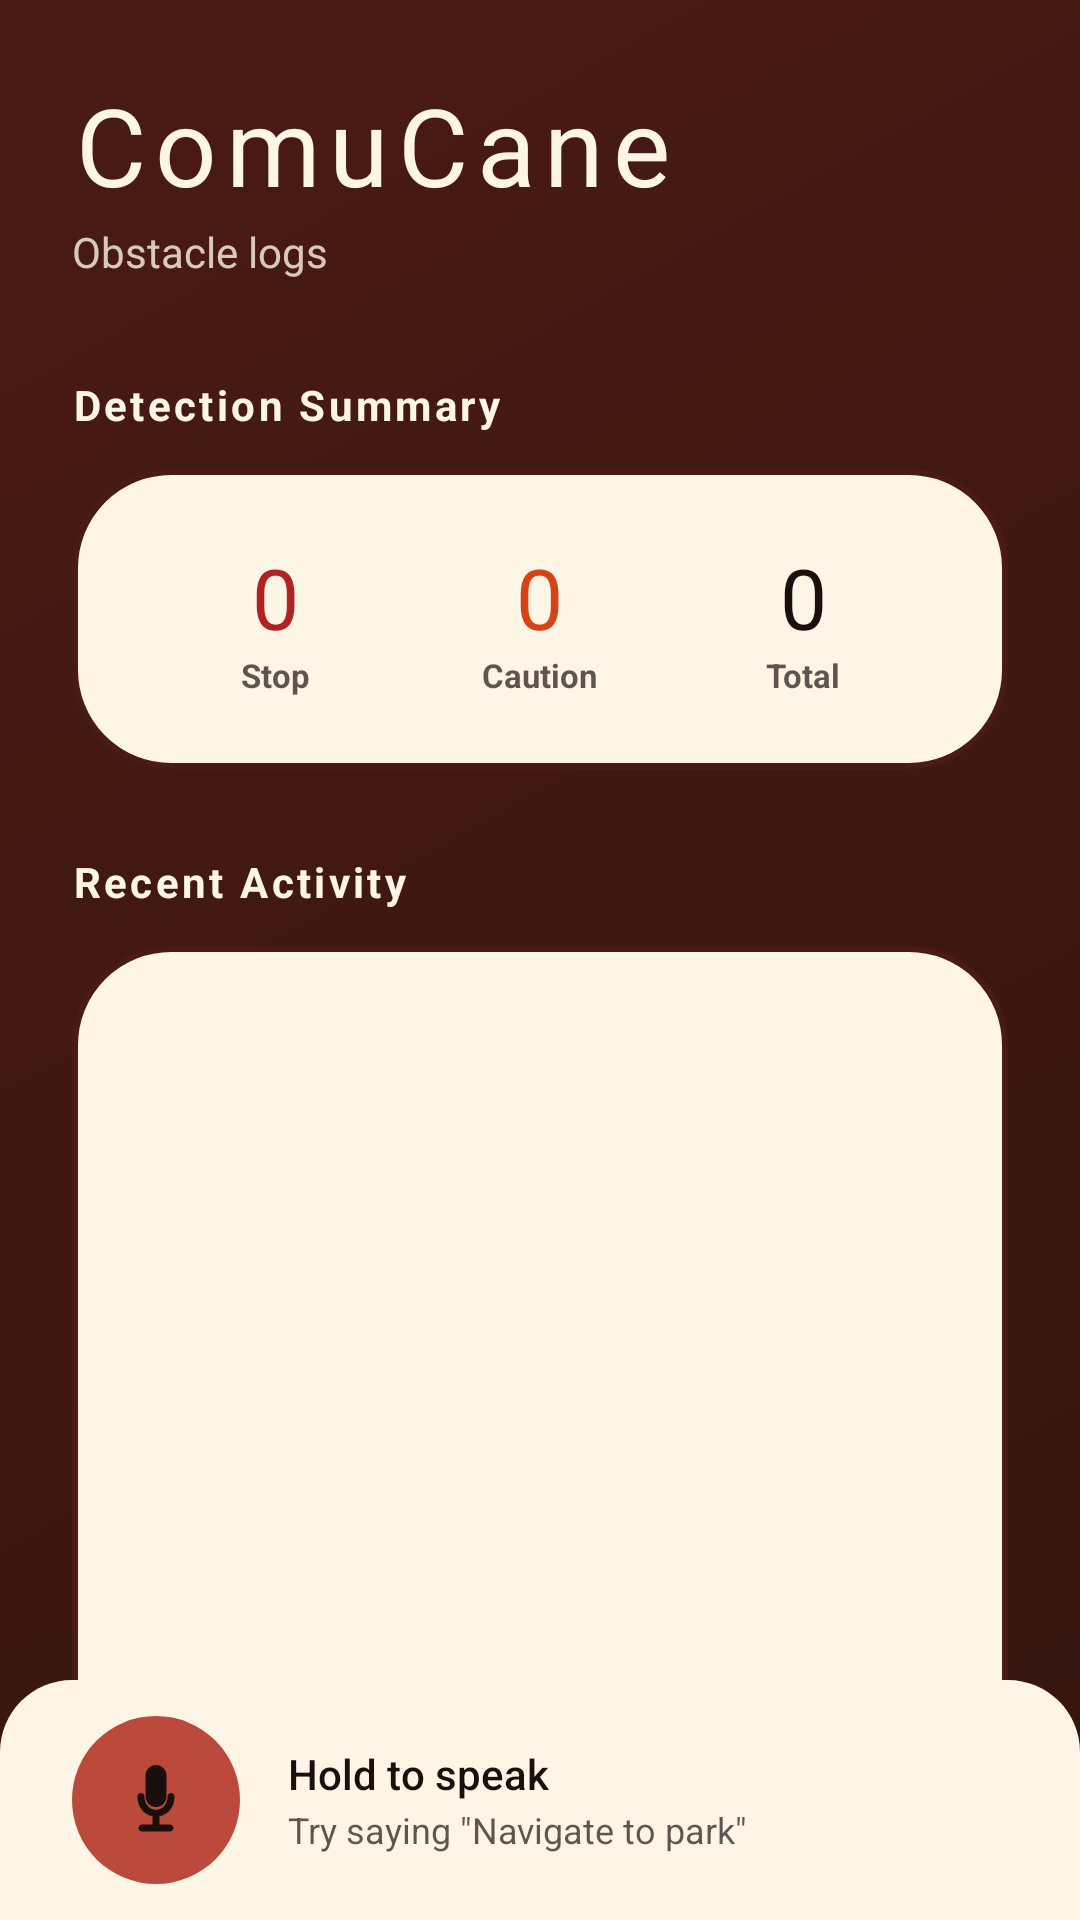

Screen size 1080*1920. Icon name, then its center in pixels as (x=x, y=y):
voice mic: (x=156, y=1798)
